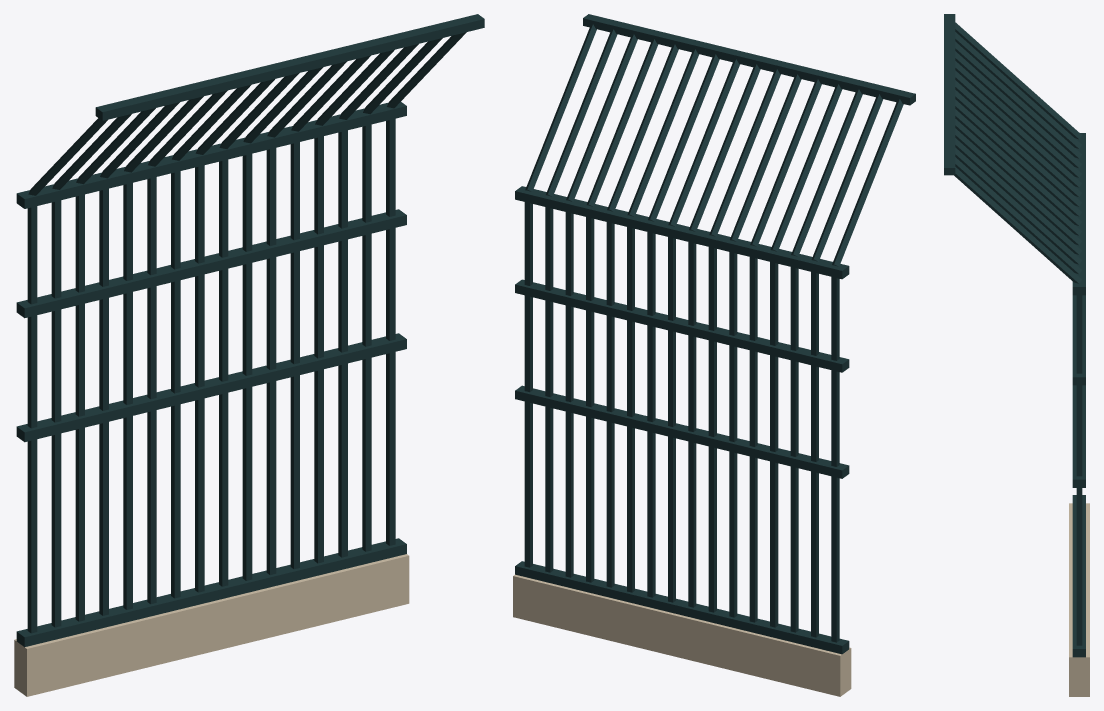
The model's file is bars_panel_XL.fbx.
3 renders of one model, left to right at view 1: azimuth 30°, elevation 25°; view 2: azimuth 150°, elevation 25°; view 3: azimuth 270°, elevation 25°, orthographic. The views are drawn at different scales.
Visible parts, largest first — view 1: bars_panel_XL; view 2: bars_panel_XL; view 3: bars_panel_XL.
Boxes of the visible parts, x1,y1,x2,y2 form: bars_panel_XL: (14, 14, 484, 696); bars_panel_XL: (513, 14, 915, 696); bars_panel_XL: (944, 14, 1089, 696).
Bounding box in the file's own units: 2.5 × 4 × 1.
